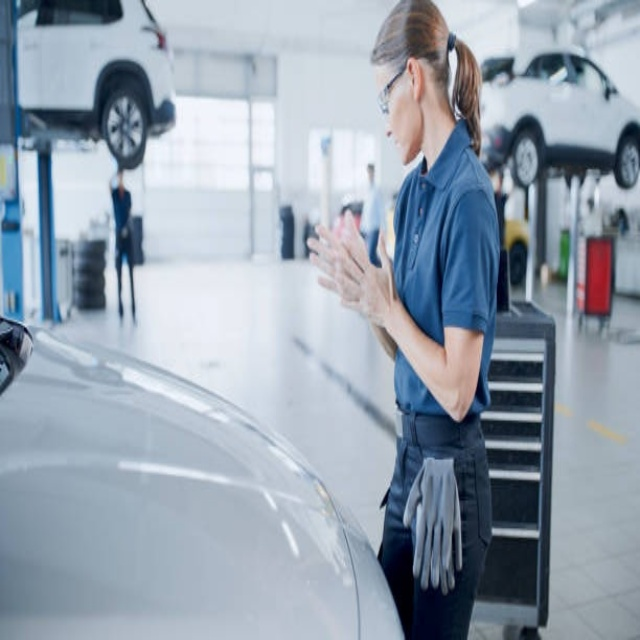Gafas: (378, 62, 414, 115)
Sin_guantes: (309, 215, 384, 320)
Sin_mascara: (386, 123, 412, 169)
